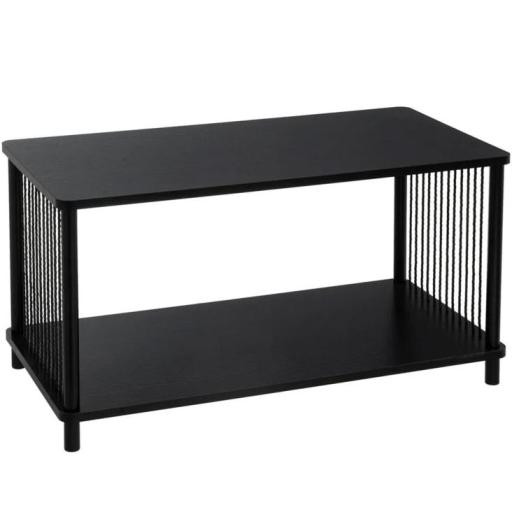table: (6, 102, 498, 432)
